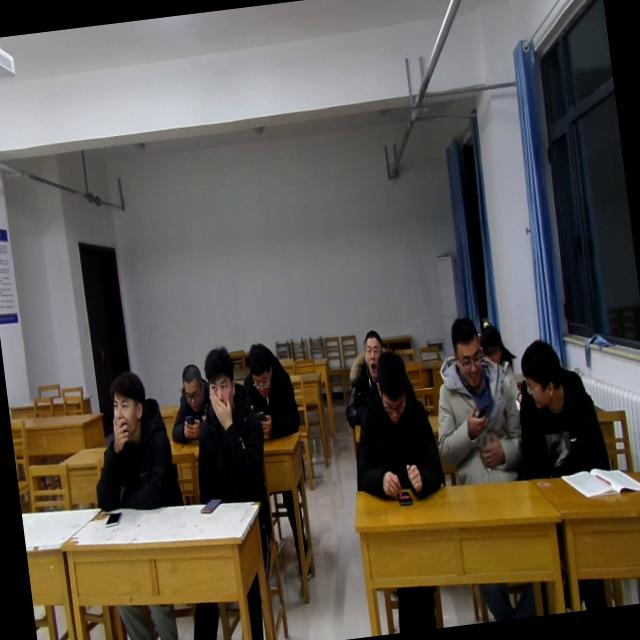bow: (238, 334, 304, 444), (162, 358, 217, 445)
down: (370, 346, 415, 430), (445, 309, 487, 396), (242, 337, 278, 398), (476, 314, 508, 367), (176, 357, 204, 411)
lookup: (102, 364, 152, 436), (198, 339, 240, 416), (356, 324, 386, 379)
sit: (422, 309, 530, 490), (339, 342, 448, 511), (176, 338, 274, 509), (506, 330, 613, 484), (80, 362, 186, 515), (336, 328, 396, 427), (475, 316, 519, 386)
